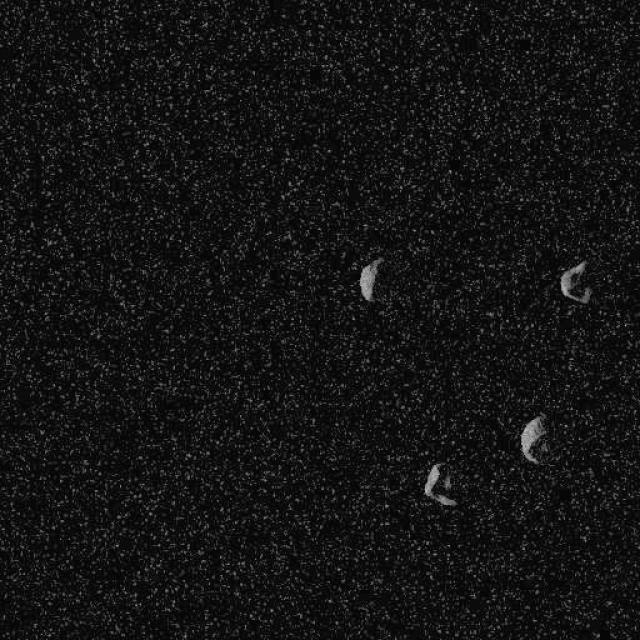D2: (422, 462, 458, 508), (558, 258, 592, 304), (519, 413, 549, 465), (358, 255, 383, 303)
